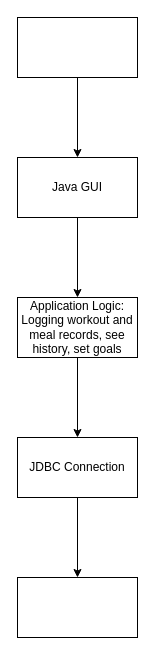
This 155x655 diagram has some shape labels left out. The shapes that lost their labels are listed below. From the top down, each one's centre as x and y in pixels, then its label:
At (x=77, y=47): "User".
At (x=77, y=607): "SQL Database".
